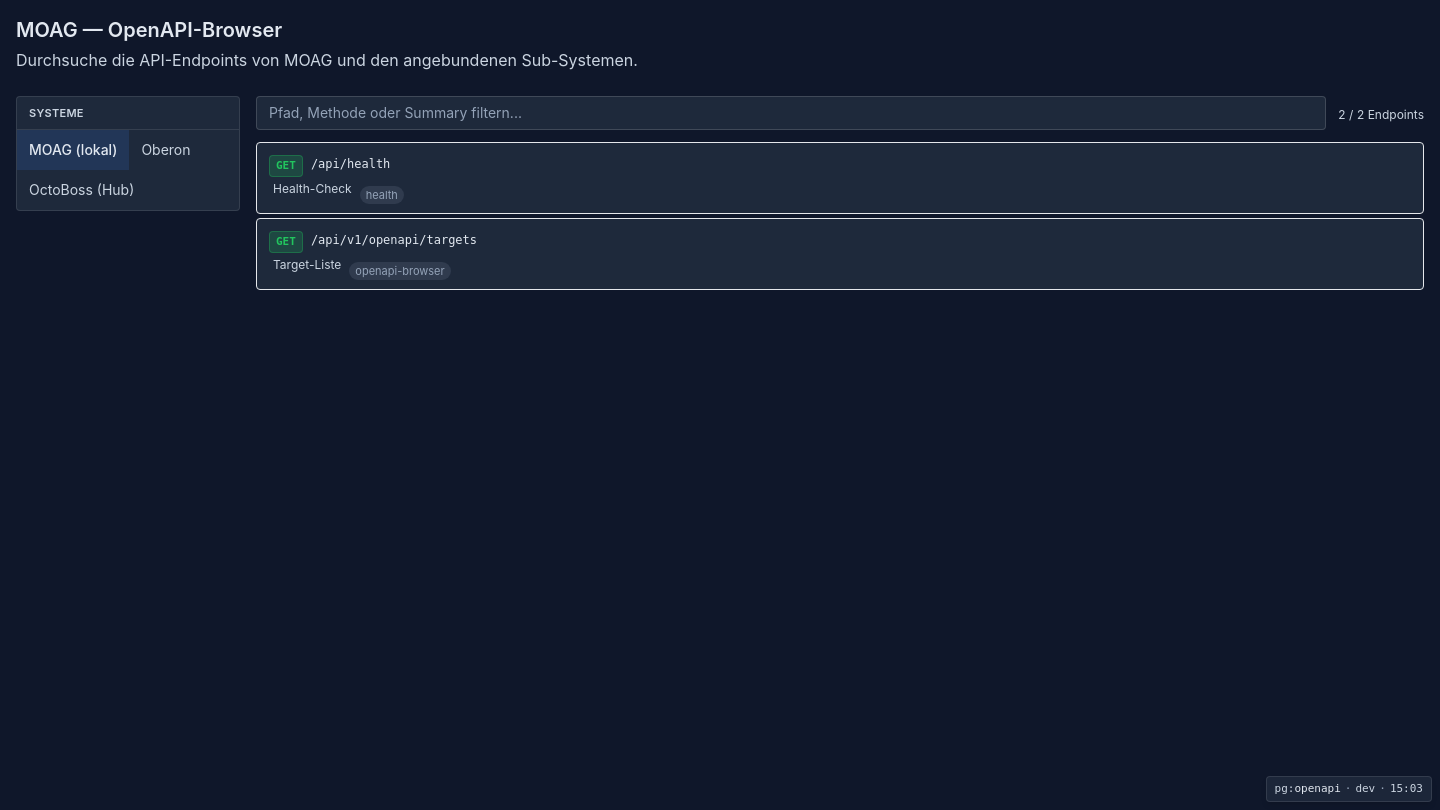
Test: OpenApiBrowser › Filter-Eingabe reduziert die sichtbaren Endpoints
Expected: the element with test id "endpoint-list" is shown, x1=256 y1=142 x2=1424 y2=290
Type "health" into the search field with test id "openapi-search" at (791, 113), box x1=256 y1=96 x2=1326 y2=130
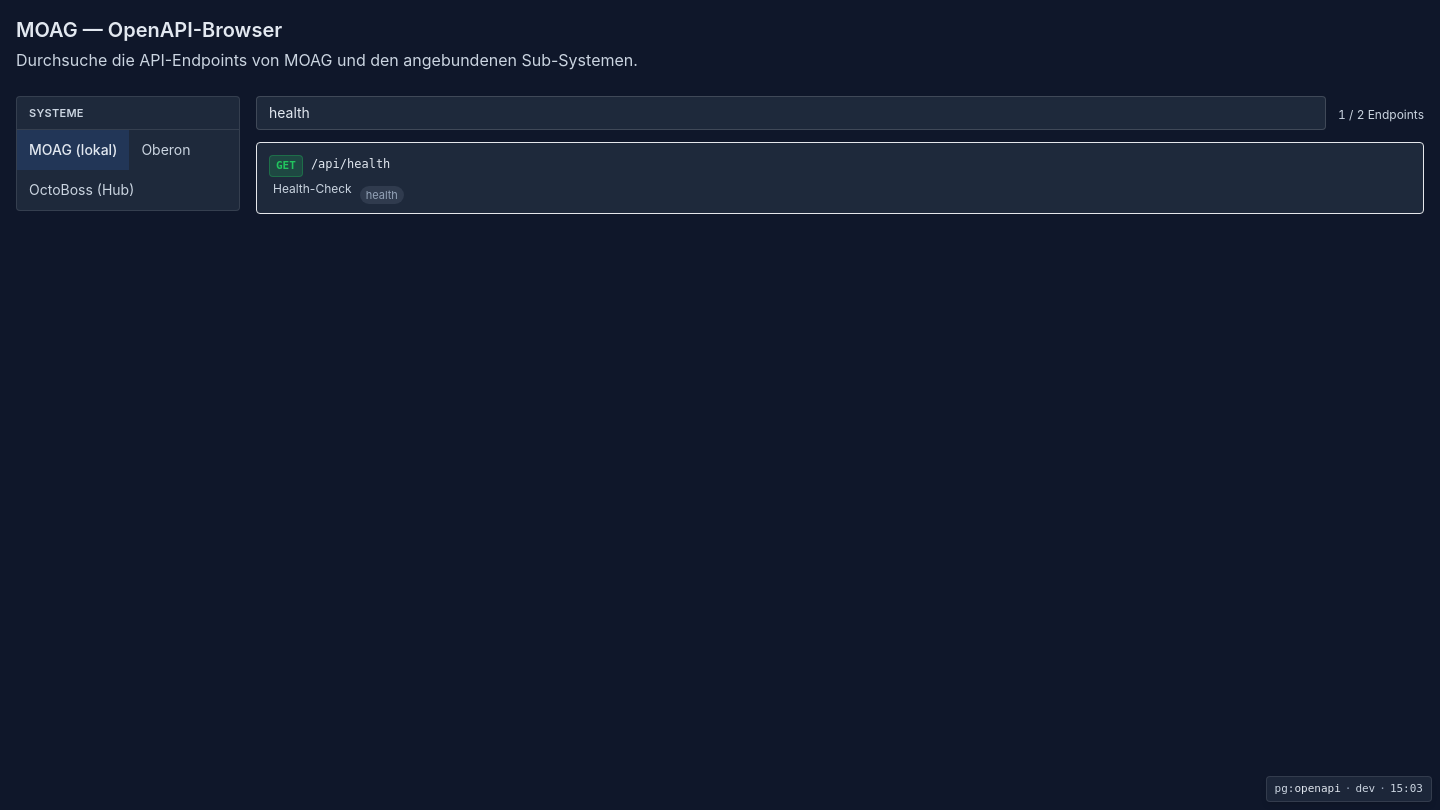
Expected: the text "/api/health" is shown, x1=311 y1=156 x2=390 y2=172
Expected: the text with test id "endpoint-count-badge" reads "1 / 2 Endpoints", x1=1338 y1=107 x2=1424 y2=122
